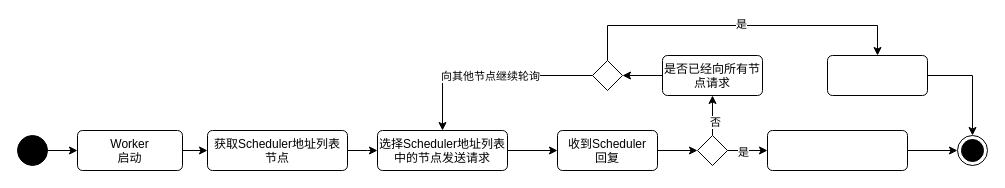
This 1005x188 diagram has some shape labels left out. The box of each missing label's shape, as (x1, y1, x2, y2) in pixels:
定时向Scheduler节点发送心跳: (766, 130, 908, 170)
注册失败: (826, 54, 928, 96)
